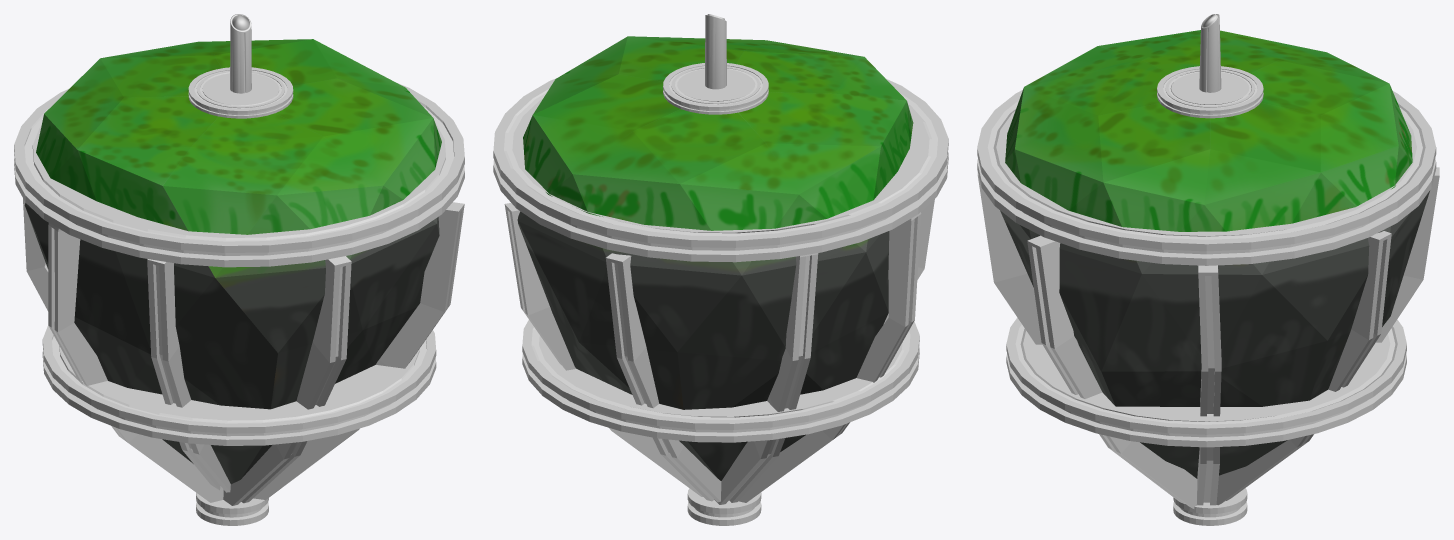
Rendered from island.fbx.
3 renders of one model, left to right at view 1: azimuth 30°, elevation 25°; view 2: azimuth 150°, elevation 25°; view 3: azimuth 270°, elevation 25°, orthographic.
Parts seen in each view (by area): view 1: Cube.004; view 2: Cube.004; view 3: Cube.004.
Boxes of the visible parts, x1,y1,x2,y2 form: Cube.004: (14, 14, 464, 525); Cube.004: (493, 14, 948, 525); Cube.004: (977, 14, 1439, 525).
Size of the model in its own units: 862 by 1034 by 868.
Materials: 3 (1 with a texture image).
